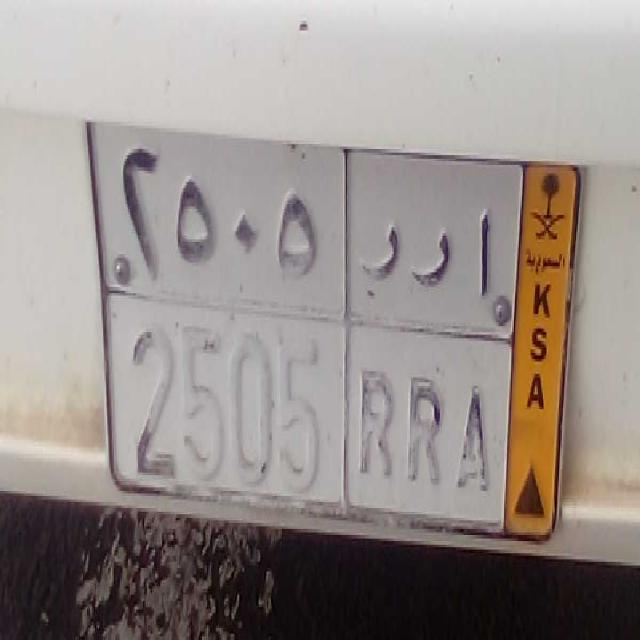license_plate: (104, 297, 505, 527)
